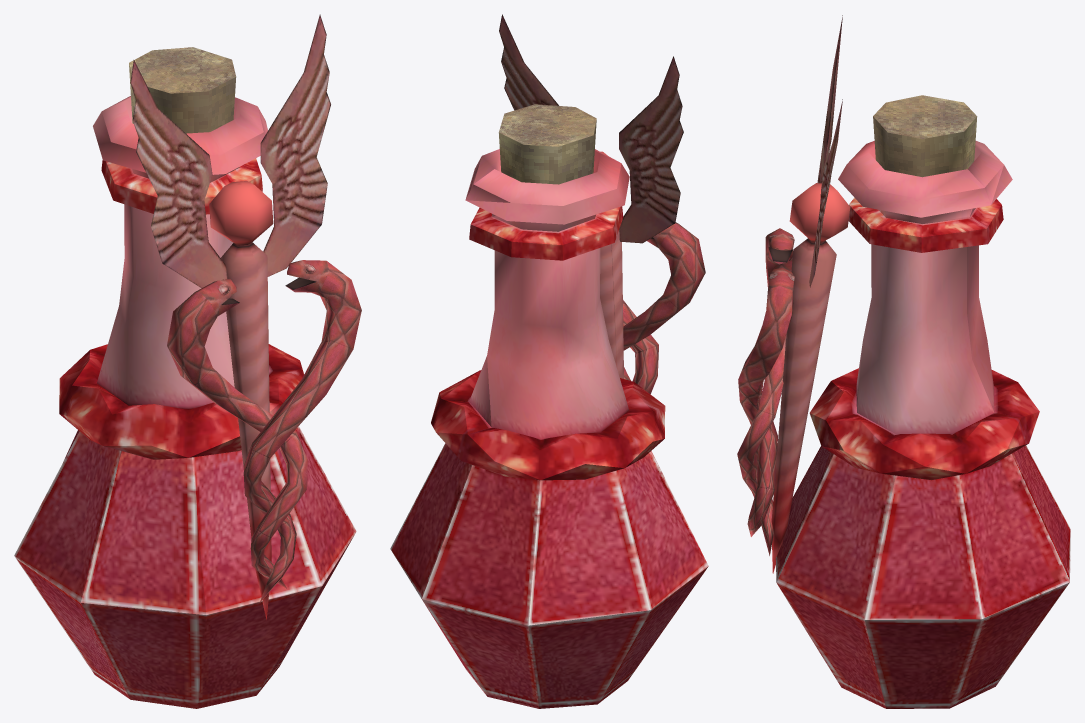
The model's file is potion_bottle_02.obj.
3 renders of one model, left to right at view 1: azimuth 30°, elevation 25°; view 2: azimuth 150°, elevation 25°; view 3: azimuth 270°, elevation 25°, orthographic. The views are drawn at different scales.
Visible parts, largest first — view 1: Mesh_0018.rip, Mesh_0016.rip, Mesh_0020.rip; view 2: Mesh_0018.rip, Mesh_0016.rip, Mesh_0020.rip; view 3: Mesh_0018.rip, Mesh_0016.rip, Mesh_0020.rip.
Boxes of the visible parts, bbox=[...] form: Mesh_0018.rip: bbox=[14, 96, 356, 708]; Mesh_0016.rip: bbox=[130, 14, 361, 619]; Mesh_0020.rip: bbox=[129, 47, 236, 133]; Mesh_0018.rip: bbox=[390, 149, 708, 708]; Mesh_0016.rip: bbox=[499, 14, 705, 393]; Mesh_0020.rip: bbox=[498, 104, 596, 184]; Mesh_0018.rip: bbox=[775, 141, 1070, 708]; Mesh_0016.rip: bbox=[737, 15, 850, 573]; Mesh_0020.rip: bbox=[873, 95, 977, 177].
Bounding box in the file's own units: 0.1968 × 0.4583 × 0.2171.
Materials: 4 (4 with a texture image).
